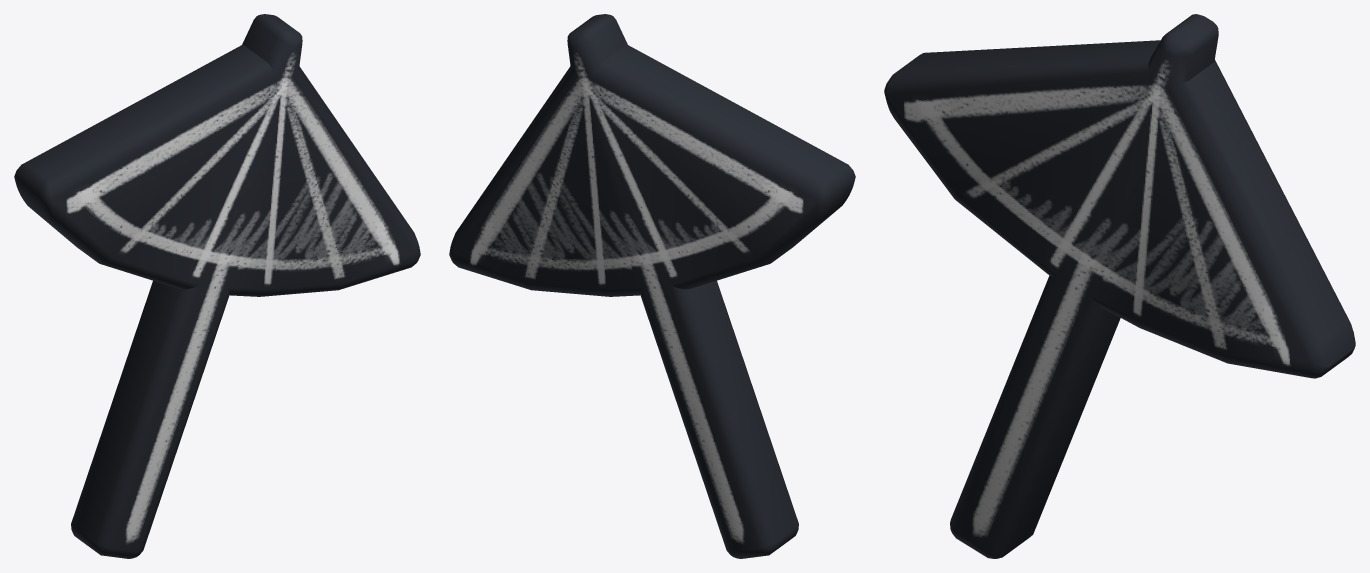
Rendered from Umbrella.fbx.
The picture shows the model from 3 angles, left to right: view 1: azimuth 30°, elevation 25°; view 2: azimuth 150°, elevation 25°; view 3: azimuth 330°, elevation 25°; orthographic projection. The views are drawn at different scales.
Visible parts, largest first — view 1: m_Parasol; view 2: m_Parasol; view 3: m_Parasol.
Boxes of the visible parts, <box> form: m_Parasol: <box>14,14,420,558</box>; m_Parasol: <box>449,14,855,558</box>; m_Parasol: <box>884,14,1355,558</box>.
Bounding box in the file's own units: 0.6209 × 0.7639 × 0.1.
